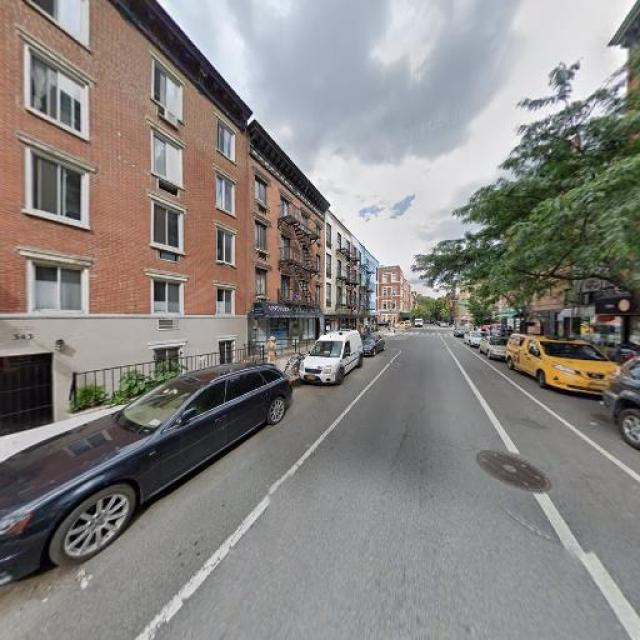Building: (1, 1, 245, 432), (249, 109, 324, 367), (327, 208, 378, 345)
